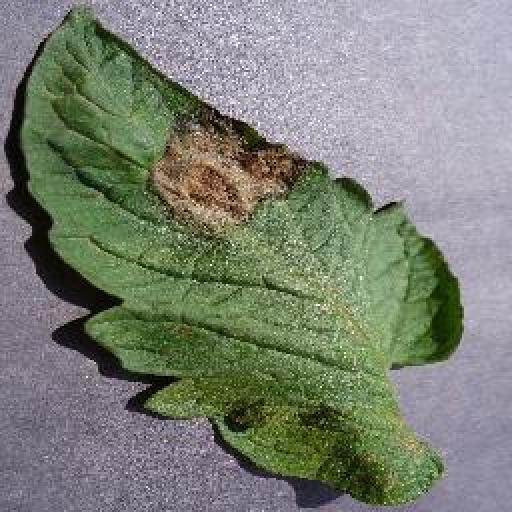disease_tomato: (19, 0, 468, 507)
